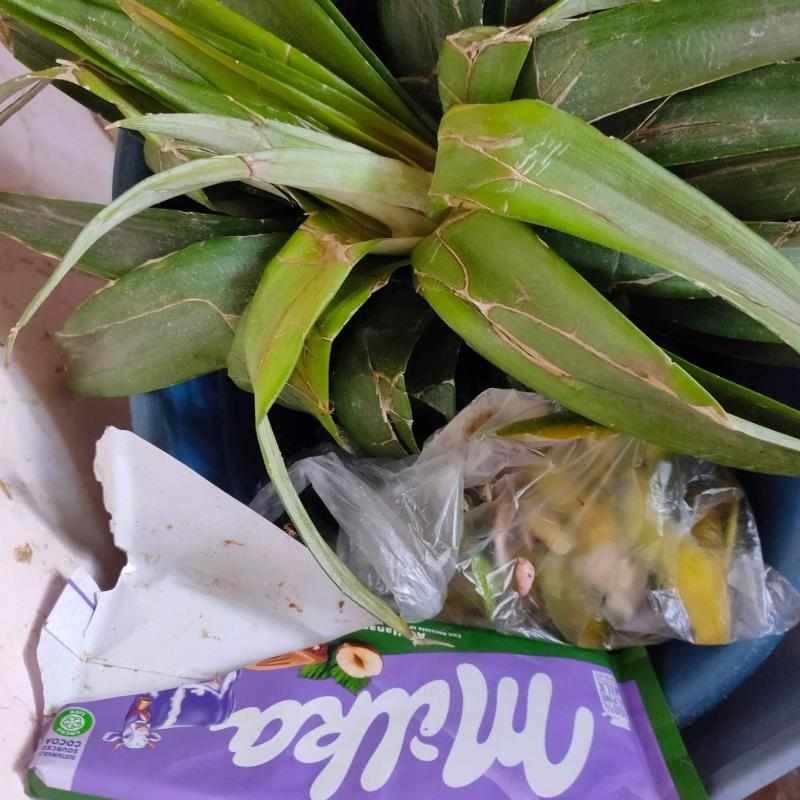fruit peels: (0, 0, 479, 643), (411, 0, 800, 480), (272, 245, 431, 470), (385, 0, 486, 122)
